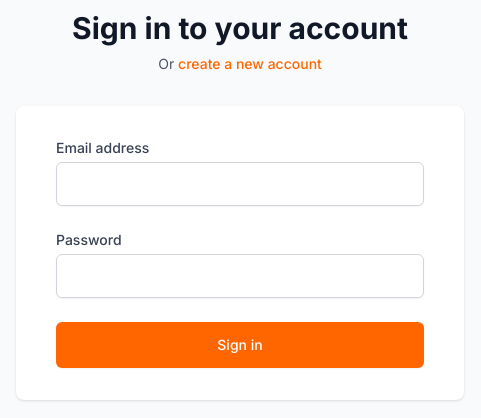
Test: Login Page › Loading State › should show loading state during submission
In the field labelled "Email address": (240, 184) [56, 162, 424, 206], type "test@example.com"
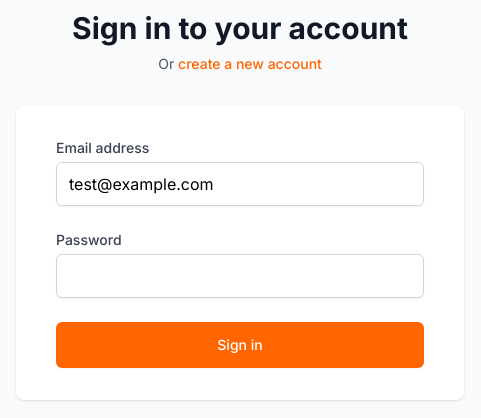
In the password field labelled "Password": (240, 276) [56, 254, 424, 298], type "password123"
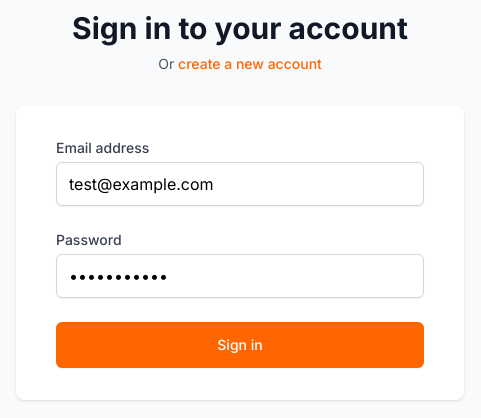
Click the button "Sign in": (240, 345) [56, 322, 424, 368]
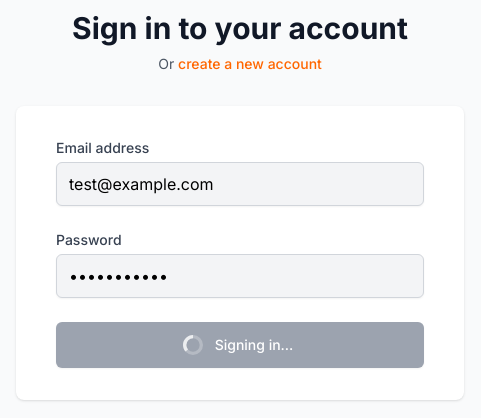
Expected: the field labelled "Email address" is disabled, [56, 162, 424, 206]
Expected: the text "Signing in..." is shown, [187, 335, 293, 355]
Expected: the button named "sign in" is disabled, [56, 322, 424, 368]
